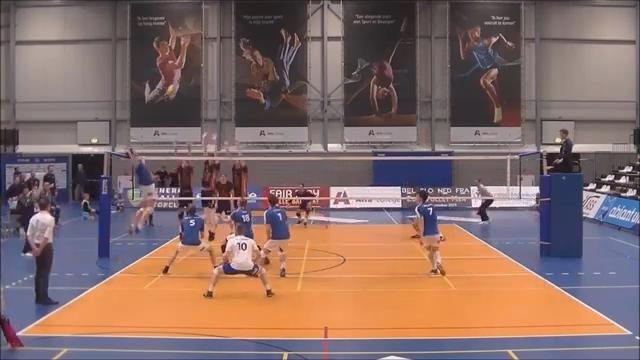attacco: (119, 142, 159, 236)
muro: (171, 135, 197, 238), (223, 137, 250, 215), (201, 127, 218, 245)
